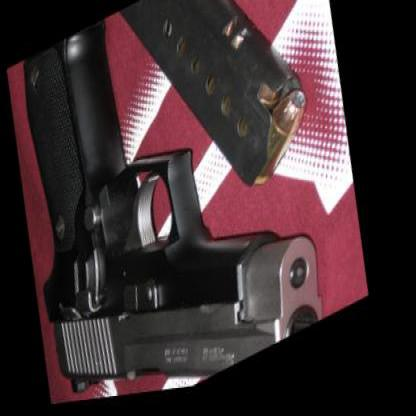pistol: (0, 0, 359, 413)
